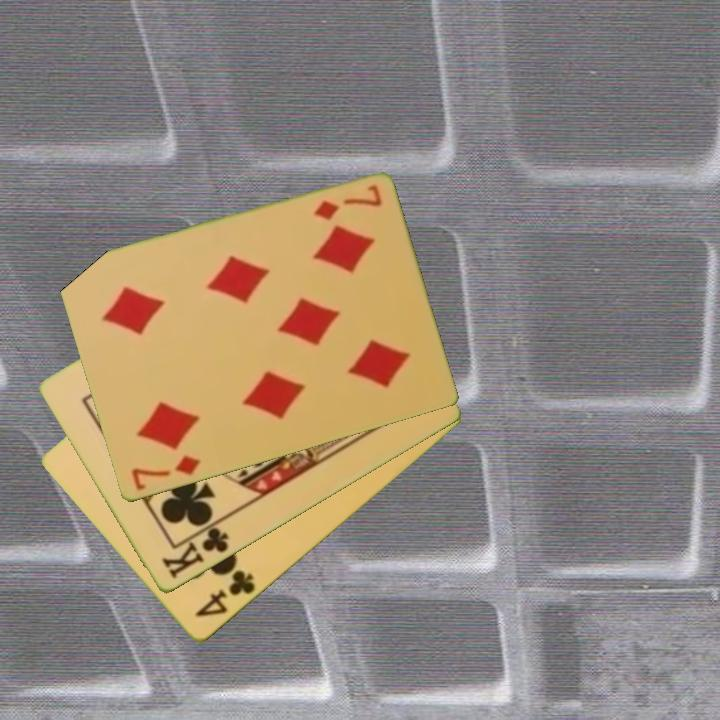4c: (191, 567, 259, 621)
7d: (127, 452, 204, 494), (309, 182, 385, 224)
Kc: (158, 517, 232, 583)
